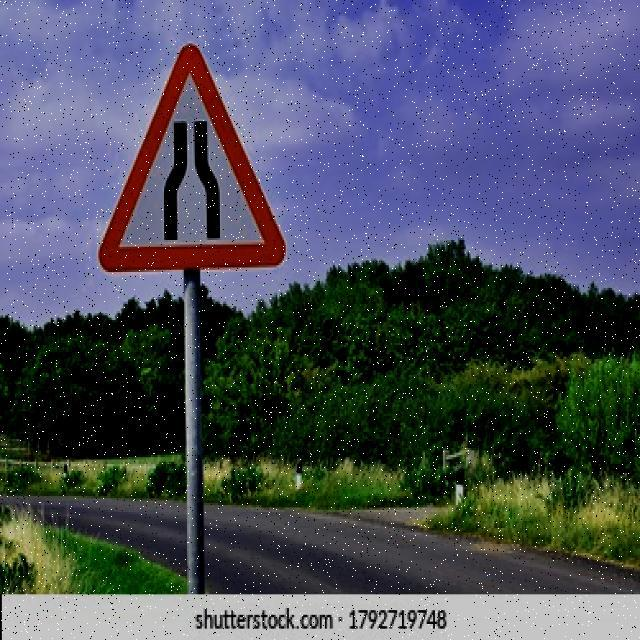Traffic sign: (91, 41, 294, 281)
